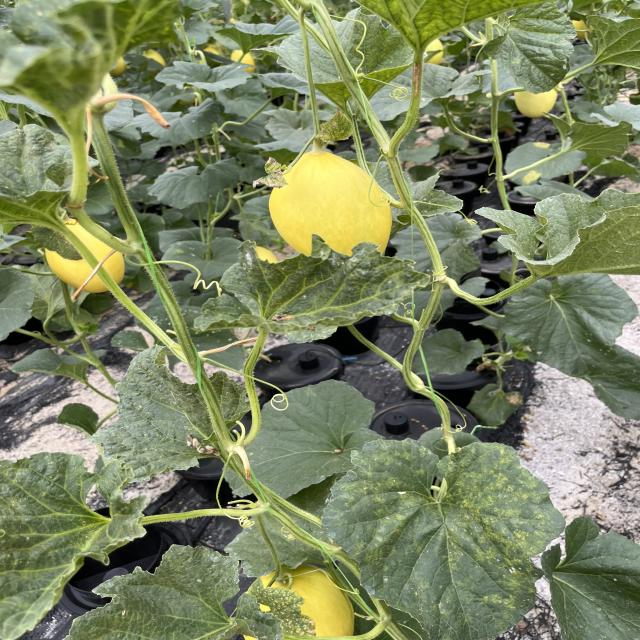CMV: (310, 435, 564, 640), (194, 232, 430, 344), (86, 341, 260, 476), (74, 541, 258, 640)
SLCV: (0, 448, 143, 632), (0, 122, 76, 235)
alternaria leaf blight: (254, 582, 321, 639), (252, 154, 290, 190), (318, 112, 360, 144)
downy mildew: (318, 427, 564, 640), (58, 537, 250, 640), (482, 191, 640, 280)
healthy: (233, 379, 389, 502)
powdery mildew: (471, 191, 640, 280), (535, 513, 640, 640)
